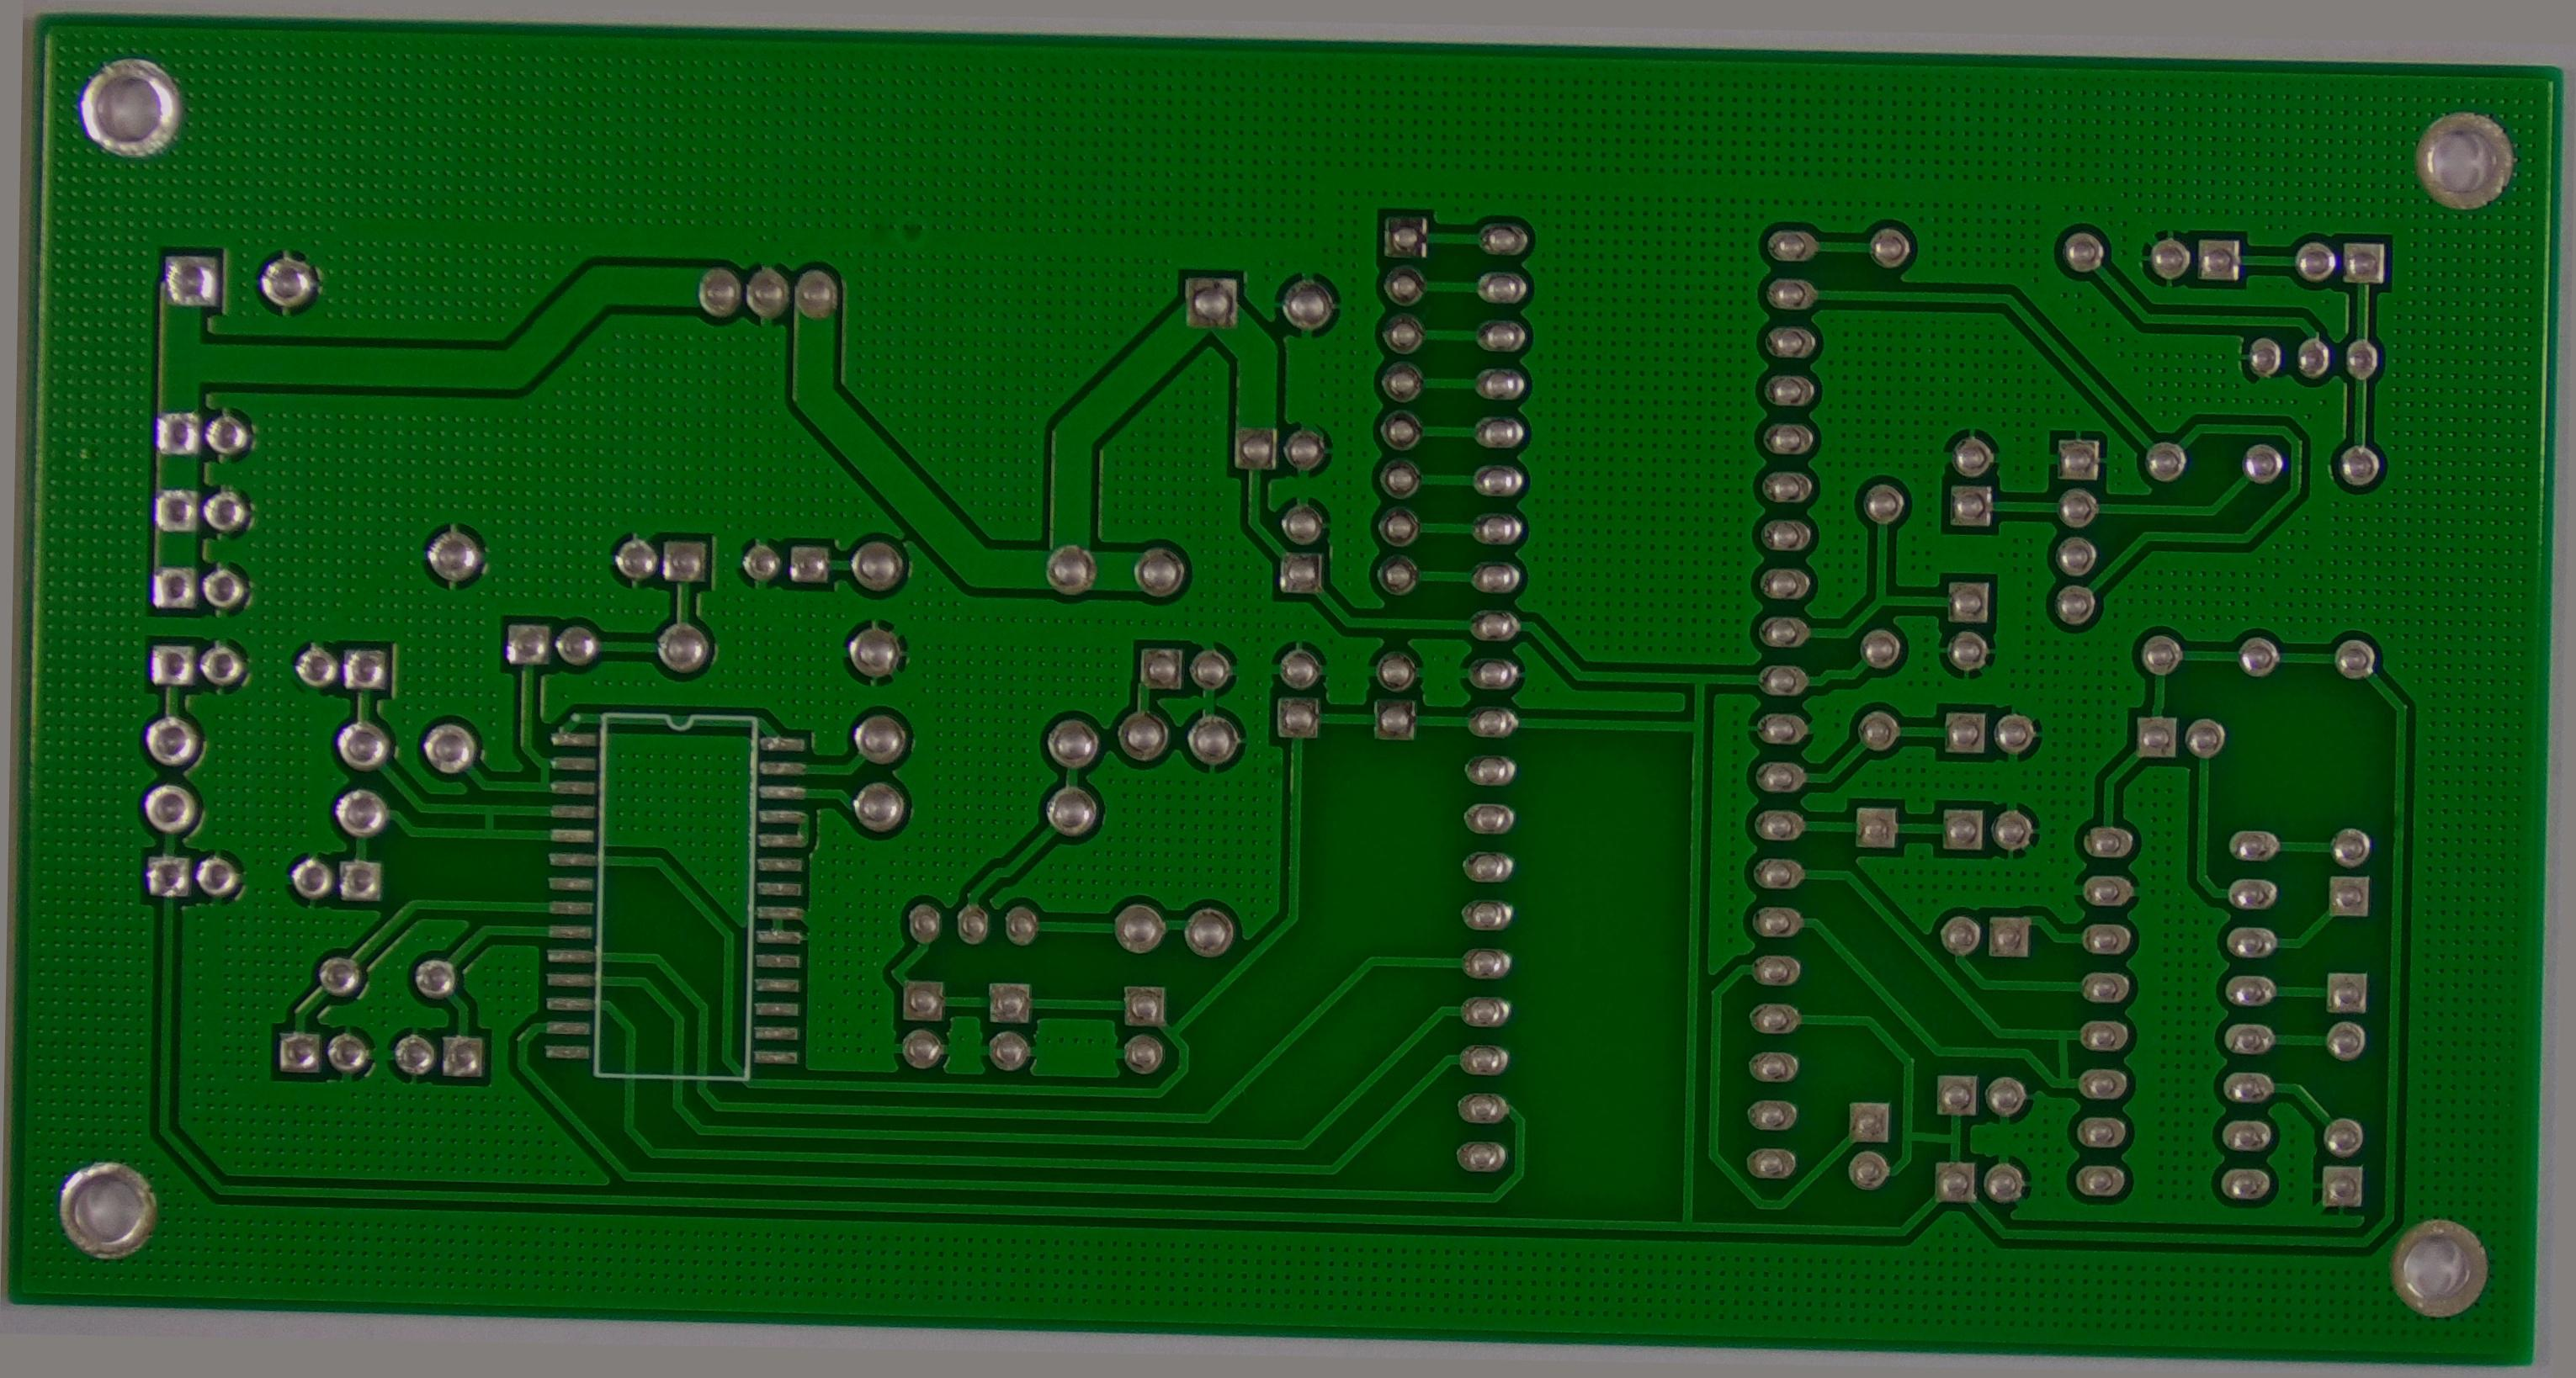short: (2027, 1020, 2101, 1094), (1898, 1109, 1961, 1167), (463, 794, 508, 848), (523, 743, 564, 792)
